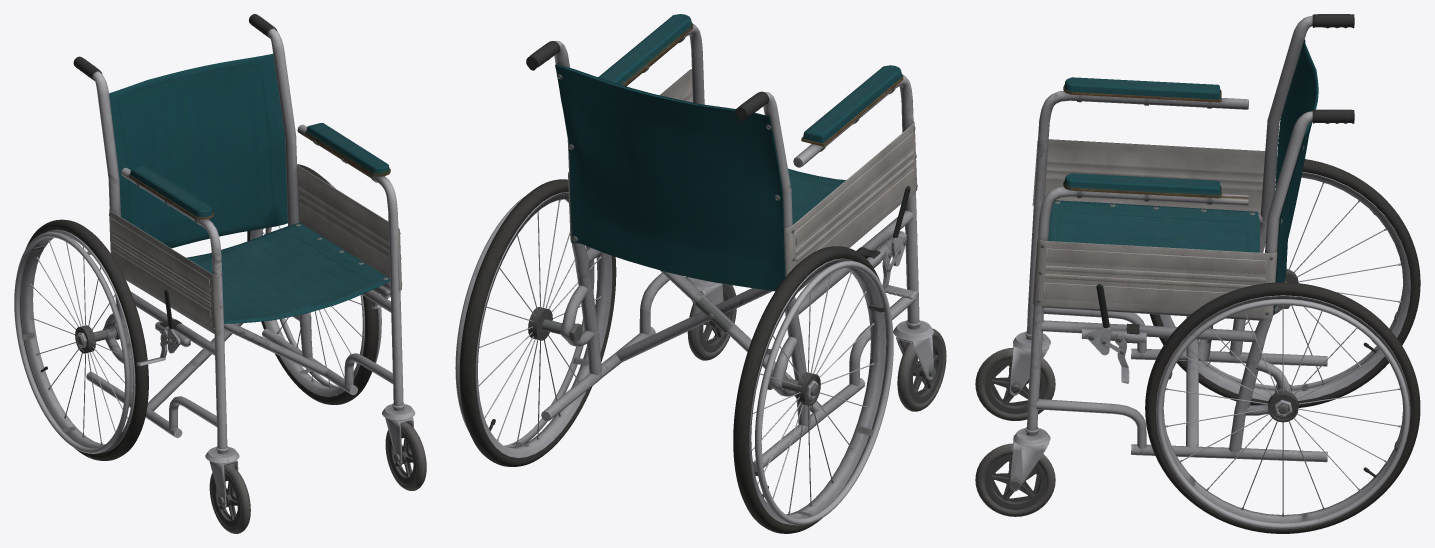
Rendered from ph-wheelchair.glb.
3 views of the same model, side by side, from view 1: azimuth 30°, elevation 25°; view 2: azimuth 150°, elevation 25°; view 3: azimuth 270°, elevation 25° (orthographic). The views are drawn at different scales.
Visible parts, largest first — view 1: wheelchair_01; view 2: wheelchair_01; view 3: wheelchair_01.
Part boxes in pixels (bbox=[...]): wheelchair_01: bbox=[14, 14, 426, 533]; wheelchair_01: bbox=[455, 14, 946, 533]; wheelchair_01: bbox=[975, 14, 1420, 533].
Size of the model in its own units: 0.8241 by 1.1 by 1.09.
Materials: 1 (1 with a texture image).
